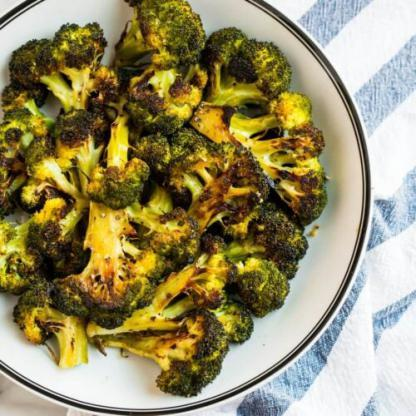broccoli: (0, 0, 331, 401)
